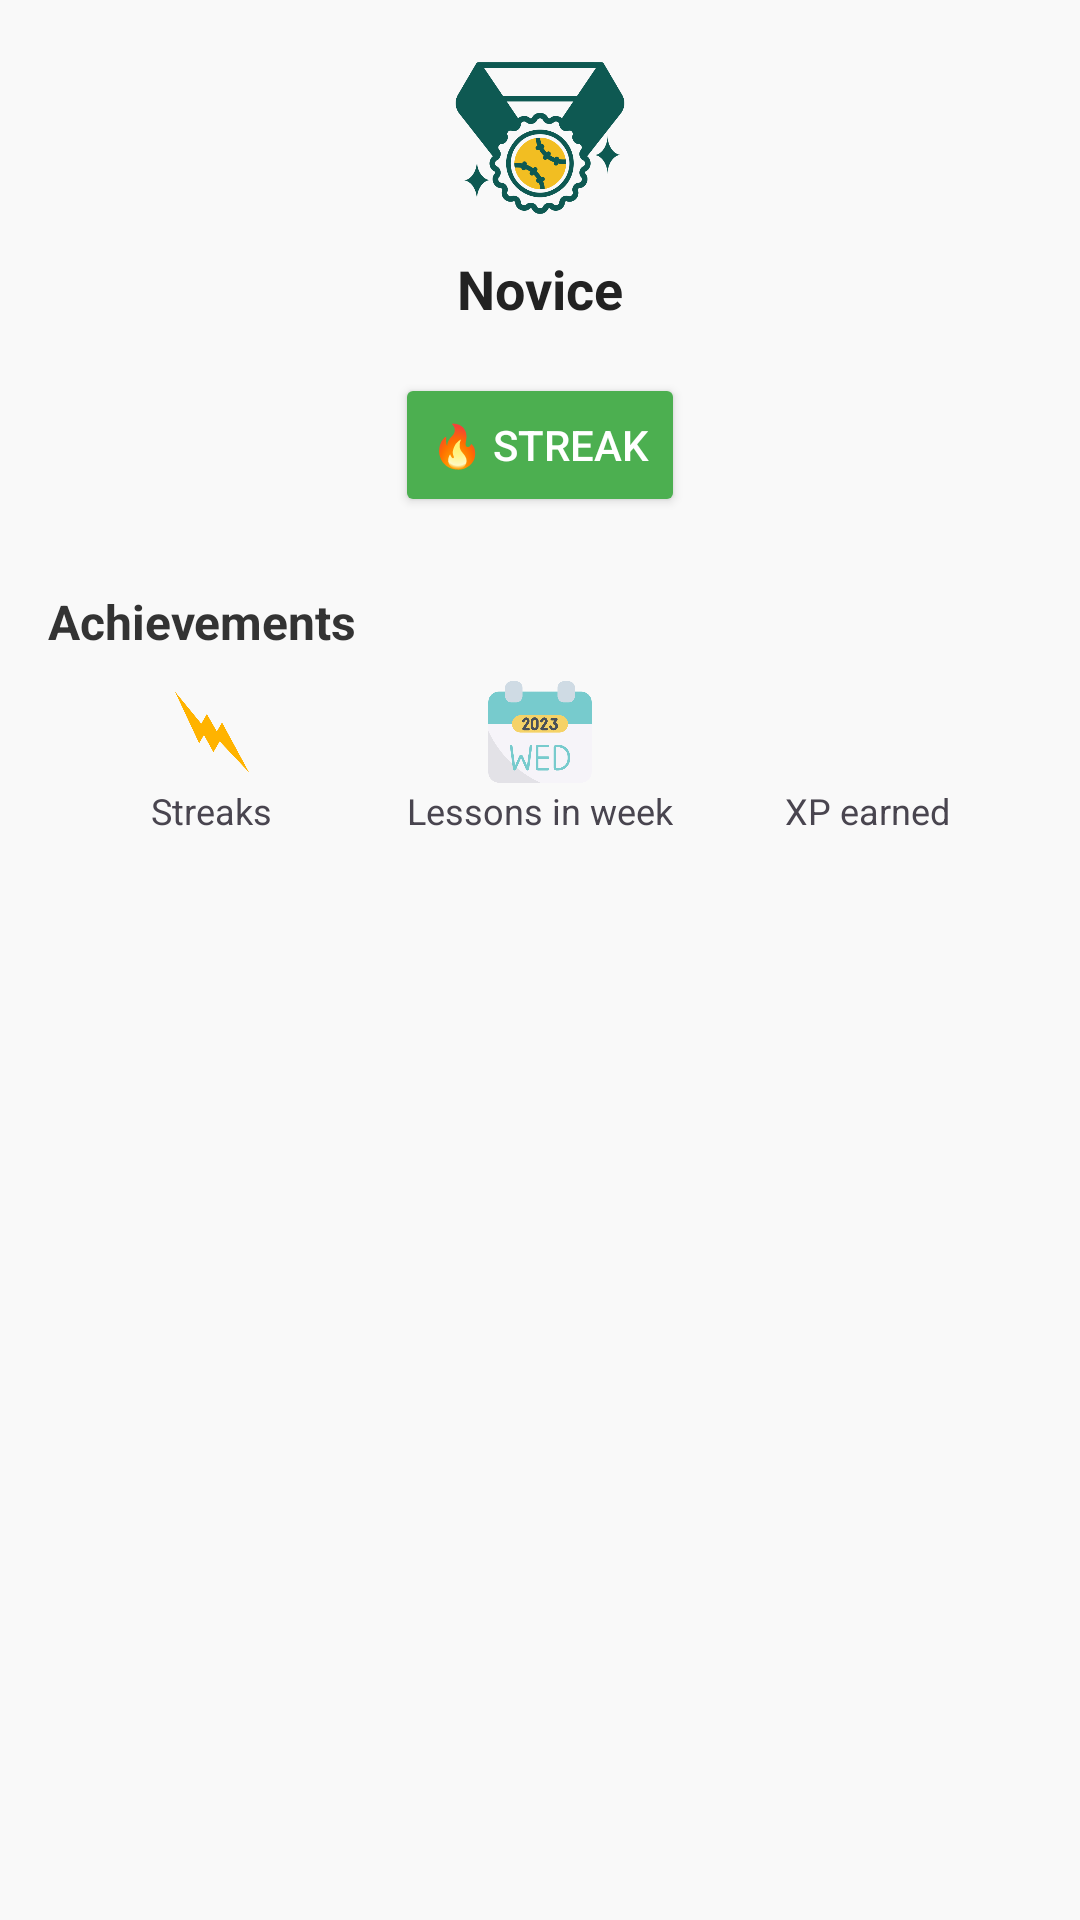

Screen size 1080×1920. Icon name, then its box in pixels as (x1, y1, x2, y2):
calendar week: (488, 681, 592, 771)
